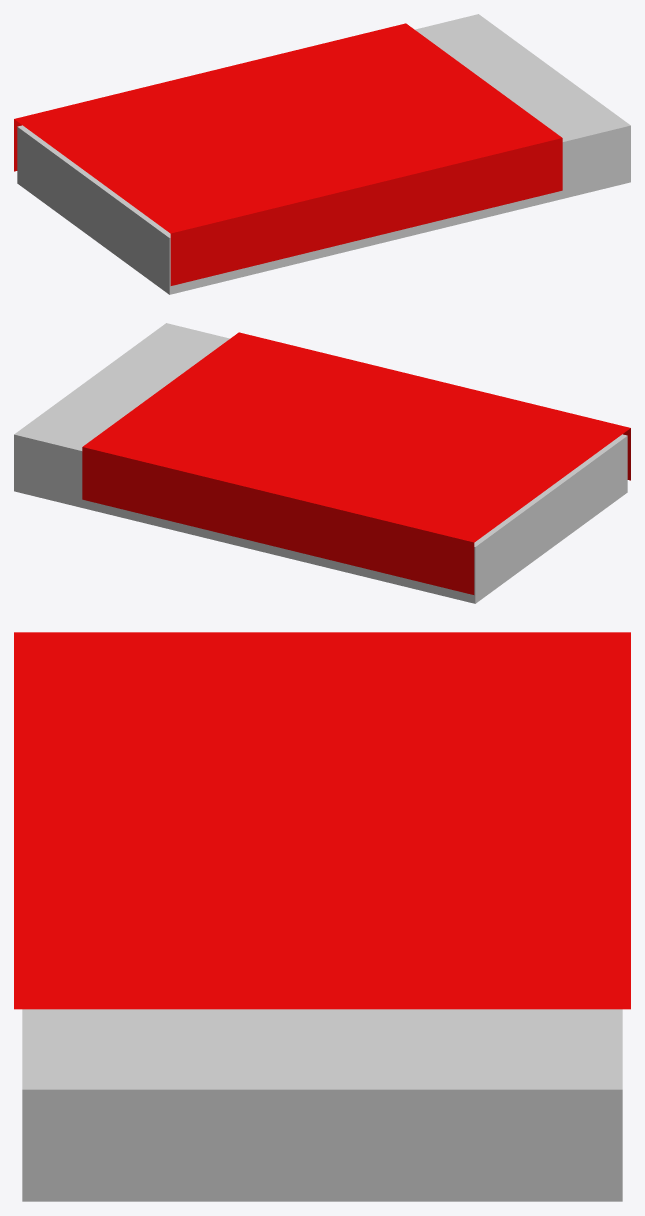
The model's file is Bed.fbx.
The picture shows the model from 3 angles, top to bottom: view 1: azimuth 30°, elevation 25°; view 2: azimuth 150°, elevation 25°; view 3: azimuth 270°, elevation 25°; orthographic projection. The views are drawn at different scales.
Visible parts, largest first — view 1: Plane.116; view 2: Plane.116; view 3: Plane.116.
Part boxes in pixels (x1,y1,x2,y2): Plane.116: [14, 14, 630, 294]; Plane.116: [14, 323, 630, 603]; Plane.116: [14, 632, 630, 1201].
Size of the model in its own units: 26.98 by 3.52 by 15.82.
